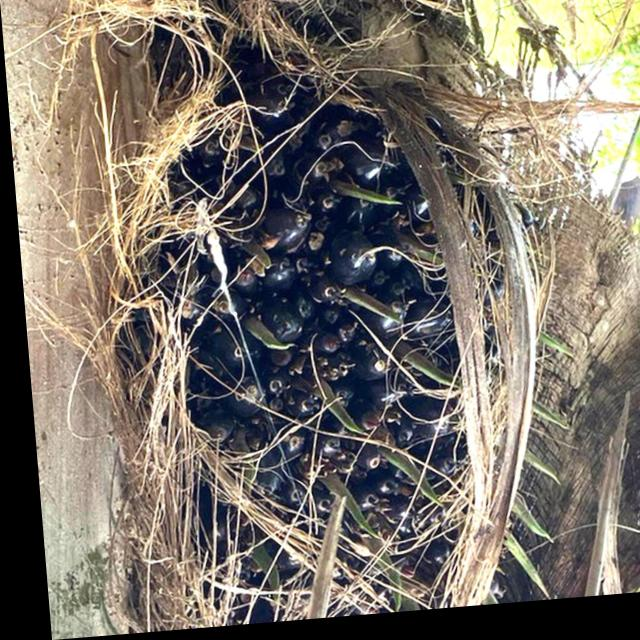unripe: (92, 0, 597, 634)
